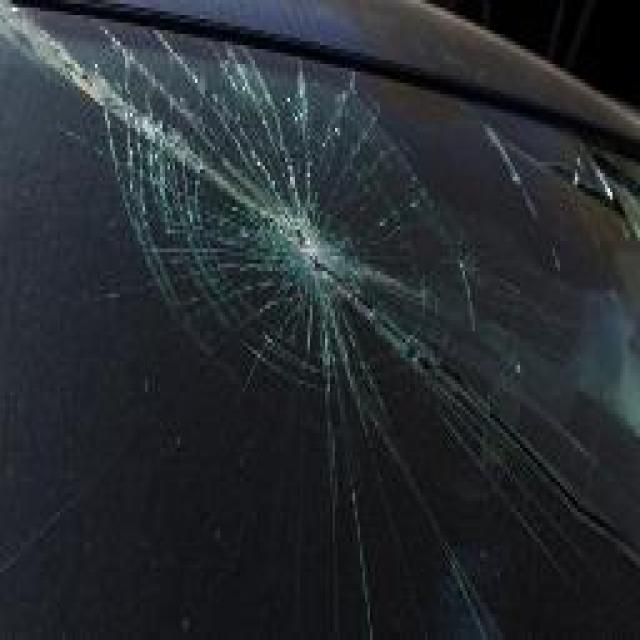Windshield: (0, 0, 640, 634)
